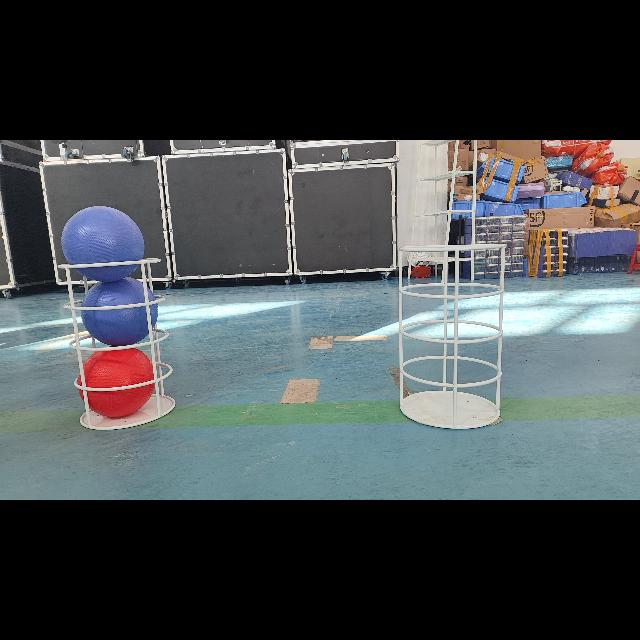B: (61, 206, 145, 280), (80, 276, 158, 346)
R: (77, 346, 157, 418)
S: (389, 242, 513, 438), (51, 252, 179, 436)
